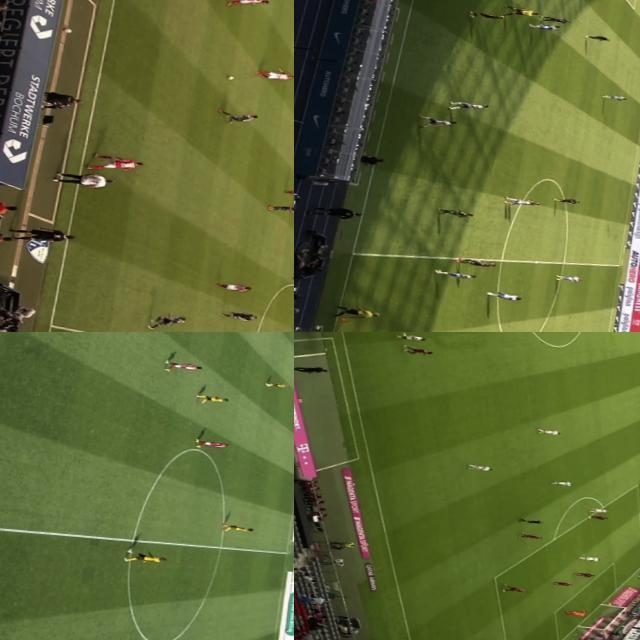ball: (223, 71, 238, 83)
player: (144, 310, 192, 332), (90, 152, 142, 172), (414, 113, 460, 131), (123, 549, 166, 565), (442, 99, 493, 112), (162, 357, 202, 373), (218, 110, 260, 125), (251, 67, 294, 81), (482, 287, 525, 301), (464, 8, 511, 20), (225, 0, 270, 11), (454, 256, 499, 267), (196, 392, 231, 406), (222, 310, 259, 322), (438, 206, 477, 217), (540, 13, 574, 25), (194, 437, 228, 449), (513, 195, 544, 208), (219, 280, 252, 292), (500, 582, 532, 594), (582, 30, 613, 42), (266, 200, 294, 213), (404, 344, 434, 356), (221, 522, 254, 532), (440, 270, 480, 278), (396, 332, 431, 341), (466, 462, 497, 472), (516, 530, 546, 540), (553, 194, 582, 204), (503, 196, 532, 206), (601, 91, 630, 101), (537, 426, 566, 436), (530, 20, 558, 30), (554, 273, 584, 282), (578, 553, 604, 563), (546, 479, 580, 486), (562, 607, 590, 615), (552, 578, 576, 586), (574, 569, 598, 577), (589, 514, 613, 522), (265, 381, 291, 388), (590, 506, 610, 514), (284, 185, 294, 199)
